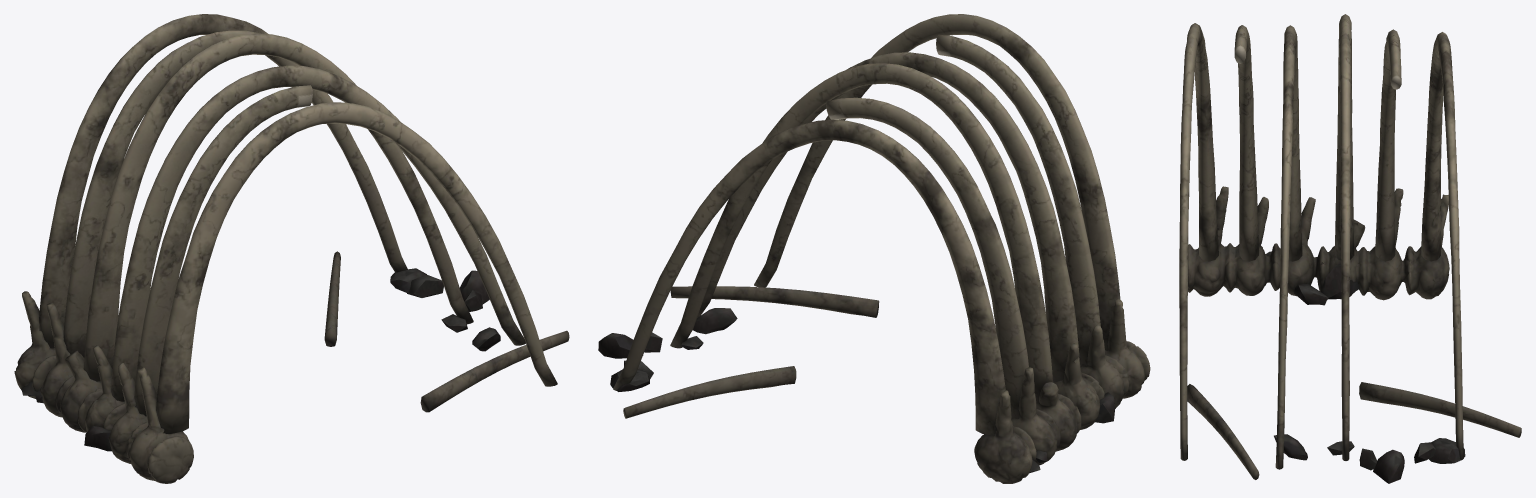
Rendered from b4p_dragon_ribs.glb.
3 views of the same model, side by side, from view 1: azimuth 30°, elevation 25°; view 2: azimuth 150°, elevation 25°; view 3: azimuth 270°, elevation 25° (orthographic). The views are drawn at different scales.
Visible parts, largest first — view 1: b4p_dragon_ribs; view 2: b4p_dragon_ribs; view 3: b4p_dragon_ribs.
Part boxes in pixels (box(x1,y1,x2,y2)): b4p_dragon_ribs: box(14, 14, 569, 483); b4p_dragon_ribs: box(598, 14, 1150, 483); b4p_dragon_ribs: box(1179, 14, 1521, 483).
Size of the model in its own units: 4.36 by 3.17 by 2.89.
1 material, 1 textured.
